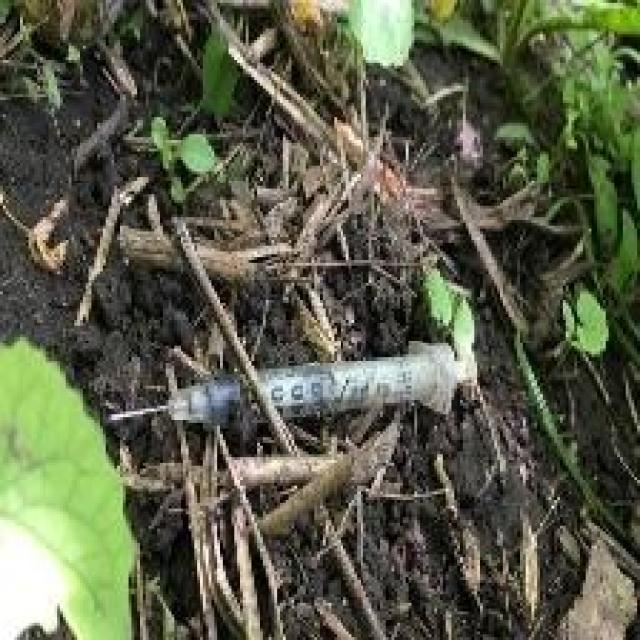syringe: (128, 314, 485, 496)
